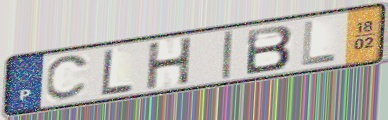B: (244, 23, 296, 77)
C: (43, 53, 93, 103)
H: (145, 35, 195, 92)
I: (220, 28, 236, 83)
L: (299, 19, 339, 68), (99, 47, 135, 97)
